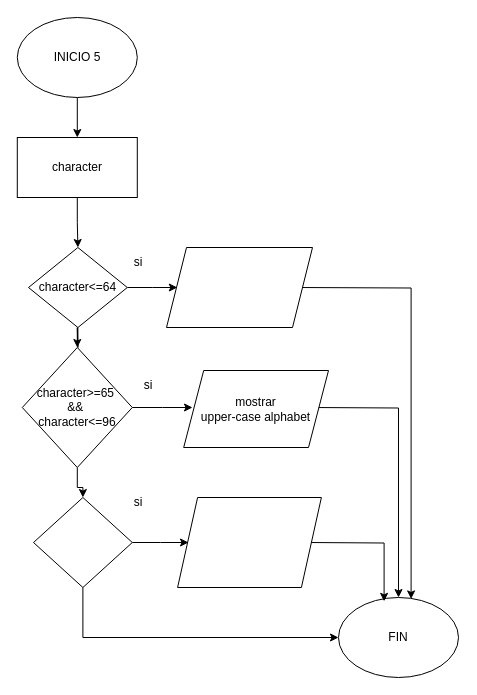
Some shapes in this 477 by 695 pixel diagram are drawn without their labels. The centre of each missing label's shape, as x and y in pixels:
"character>=97" belongs at (82,542).
"mostrar lower-case alphabet" belongs at (249,542).
"mostrar not an alphabet" belongs at (239,287).
